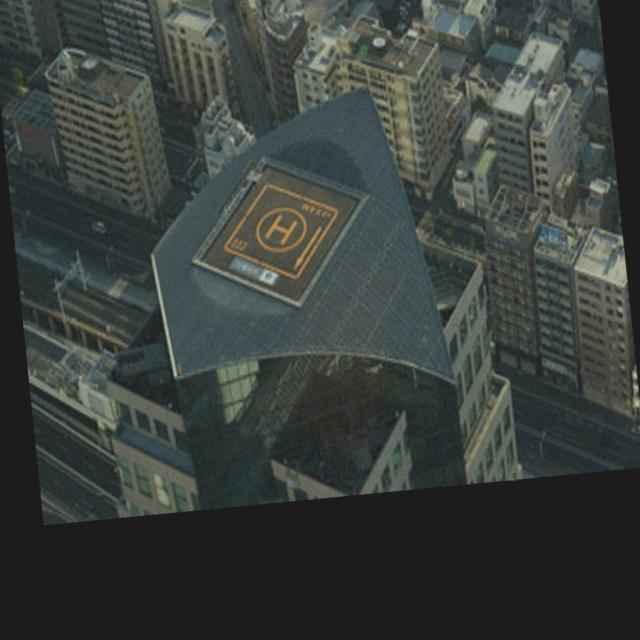helipad: (252, 204, 308, 254)
